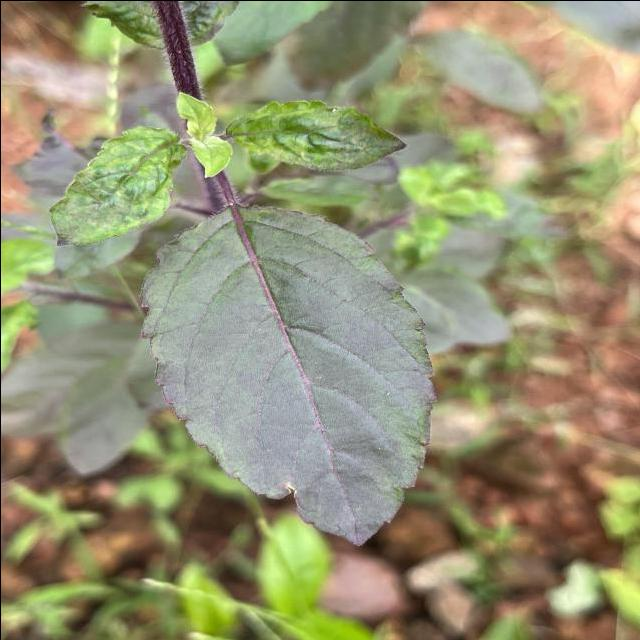Ocimum tenuiflorum: (134, 197, 444, 549)
